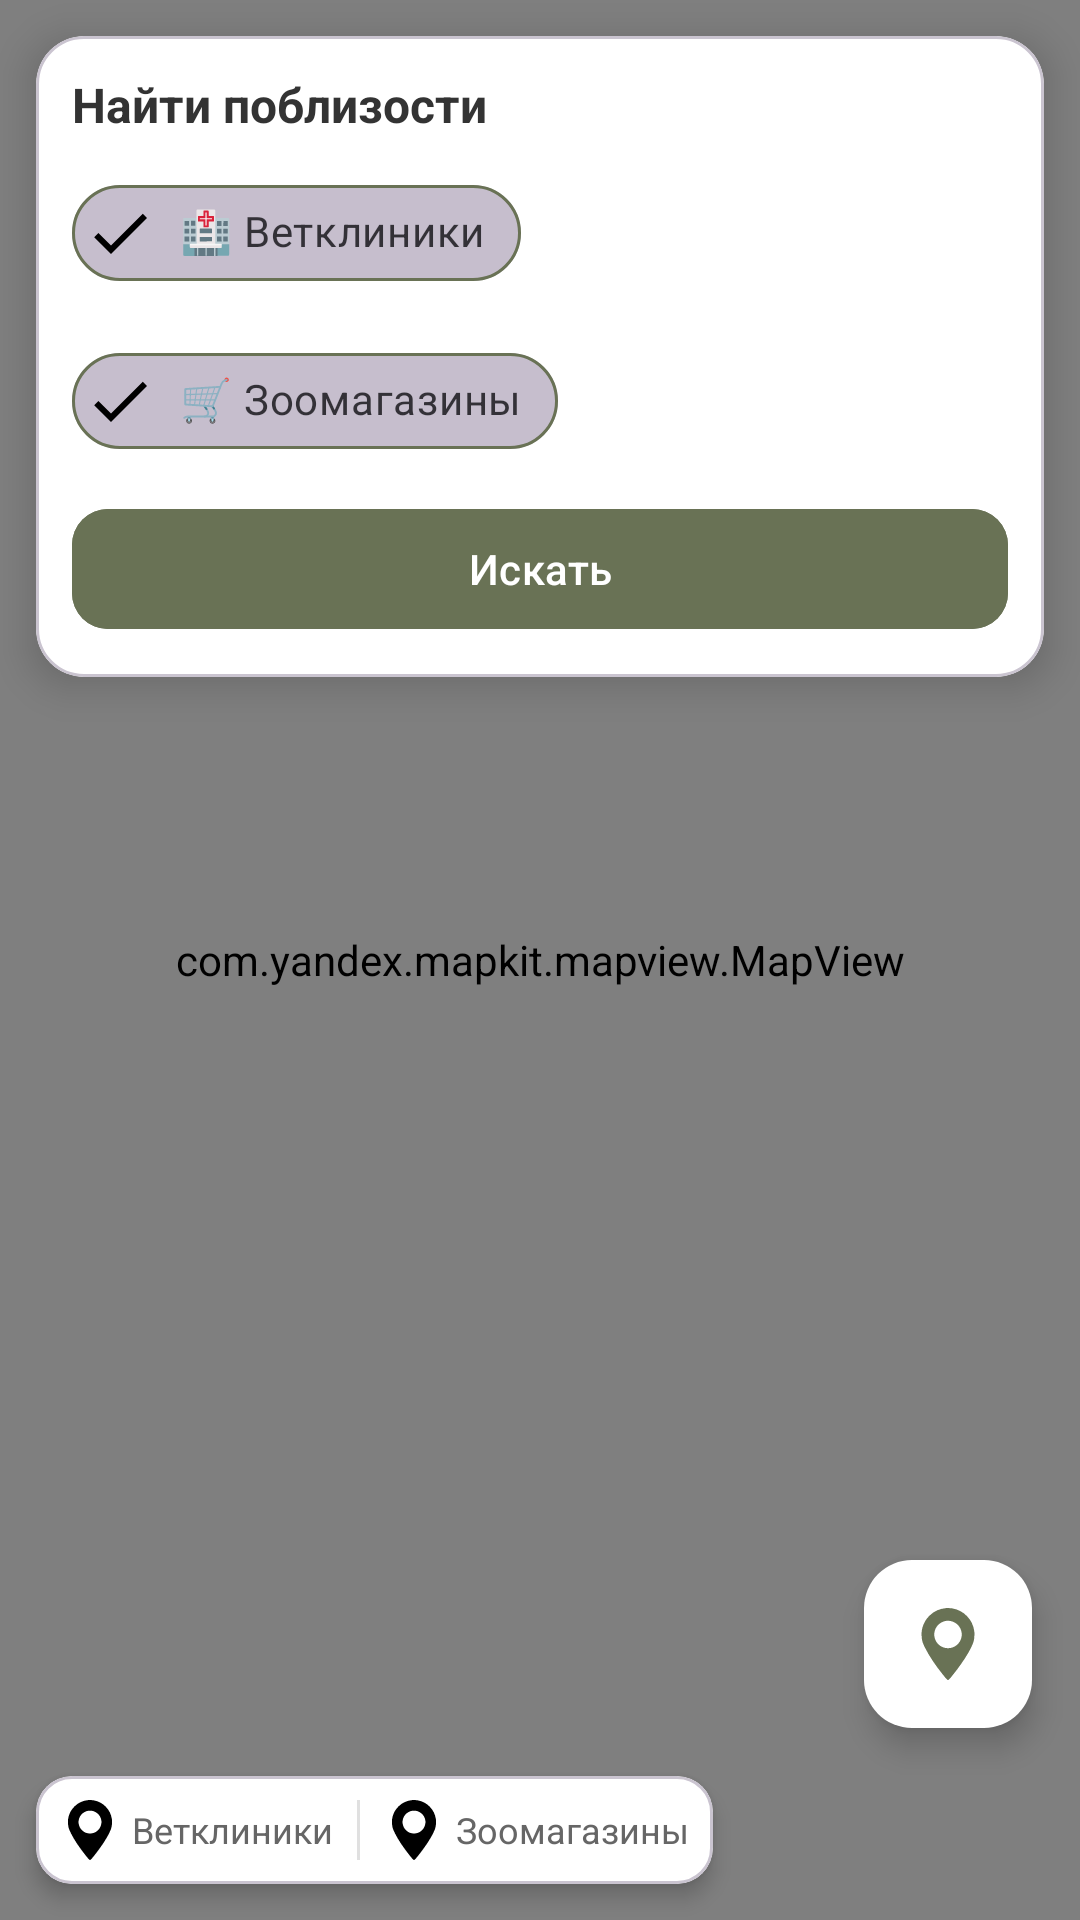

Locate icon controls on the screen. Image size 1080 × 1920, boxes as (x1, y1, x2, y2).
Моё местоположение: (864, 1560, 1032, 1728)
